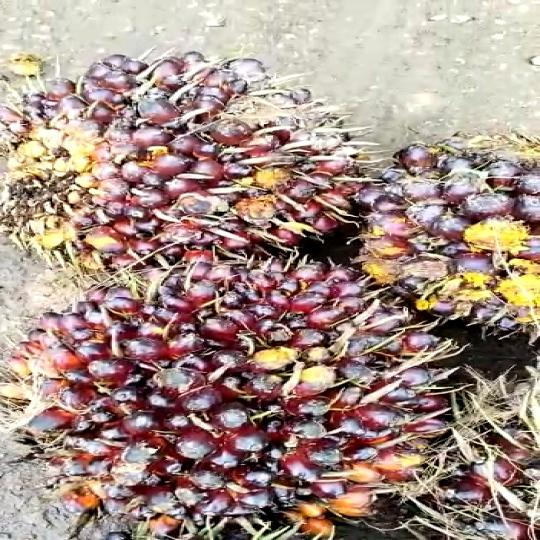kurang masak: (0, 260, 439, 540), (0, 36, 363, 267), (369, 135, 540, 344)
